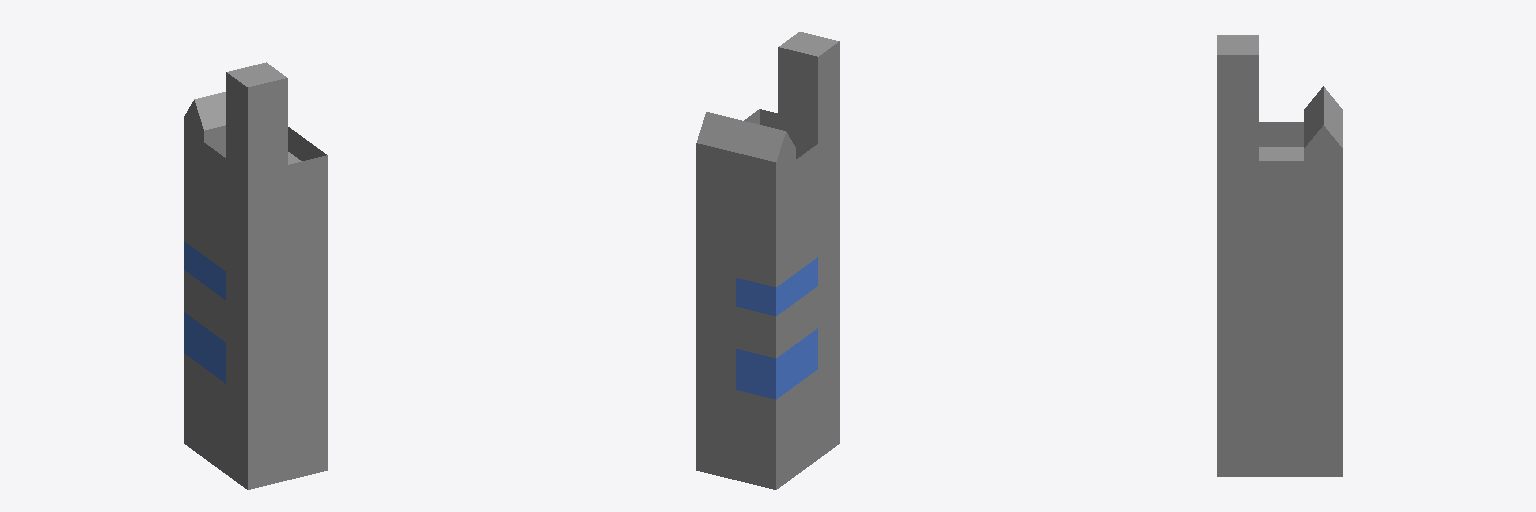
Rendered from building13.obj.
The picture shows the model from 3 angles: view 1: azimuth 30°, elevation 25°; view 2: azimuth 150°, elevation 25°; view 3: azimuth 270°, elevation 25°; orthographic projection.
Parts seen in each view (by area): view 1: SketchUp.001_ID11, SketchUp.006_ID64, SketchUp.013_ID138, SketchUp.002_ID24, SketchUp.009_ID98, SketchUp.011_ID112, SketchUp.012_ID125; view 2: SketchUp.001_ID11, SketchUp.002_ID24, SketchUp.006_ID64, SketchUp.011_ID112, SketchUp.009_ID98, SketchUp.008_ID85, SketchUp.012_ID125; view 3: SketchUp.001_ID11, SketchUp.013_ID138, SketchUp.002_ID24, SketchUp.011_ID112, SketchUp.012_ID125, SketchUp.010_ID104.
Boxes of the visible parts, box(x1,y1,x2,y2) form: SketchUp.001_ID11: box(184, 62, 327, 489); SketchUp.006_ID64: box(184, 312, 225, 383); SketchUp.013_ID138: box(288, 127, 327, 189); SketchUp.002_ID24: box(184, 100, 225, 166); SketchUp.009_ID98: box(184, 241, 225, 299); SketchUp.011_ID112: box(194, 92, 225, 130); SketchUp.012_ID125: box(204, 143, 225, 182); SketchUp.001_ID11: box(696, 32, 839, 489); SketchUp.002_ID24: box(696, 132, 795, 199); SketchUp.006_ID64: box(736, 328, 817, 399); SketchUp.011_ID112: box(697, 112, 785, 161); SketchUp.009_ID98: box(736, 257, 817, 315); SketchUp.008_ID85: box(736, 307, 775, 357); SketchUp.012_ID125: box(796, 144, 817, 184); SketchUp.001_ID11: box(1217, 35, 1342, 476); SketchUp.013_ID138: box(1217, 161, 1303, 185); SketchUp.002_ID24: box(1304, 125, 1342, 185); SketchUp.011_ID112: box(1304, 86, 1342, 147); SketchUp.012_ID125: box(1259, 122, 1303, 146); SketchUp.010_ID104: box(1259, 147, 1303, 160).
Bounding box in the file's own units: 33.18 × 160 × 45.42.